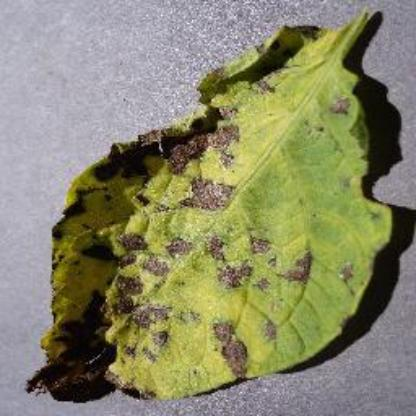Early-Blight: (28, 11, 402, 401)
